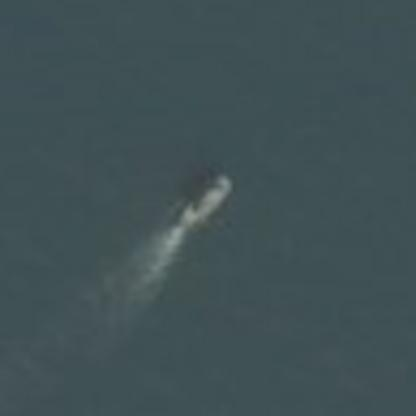ship: (169, 166, 239, 240)
